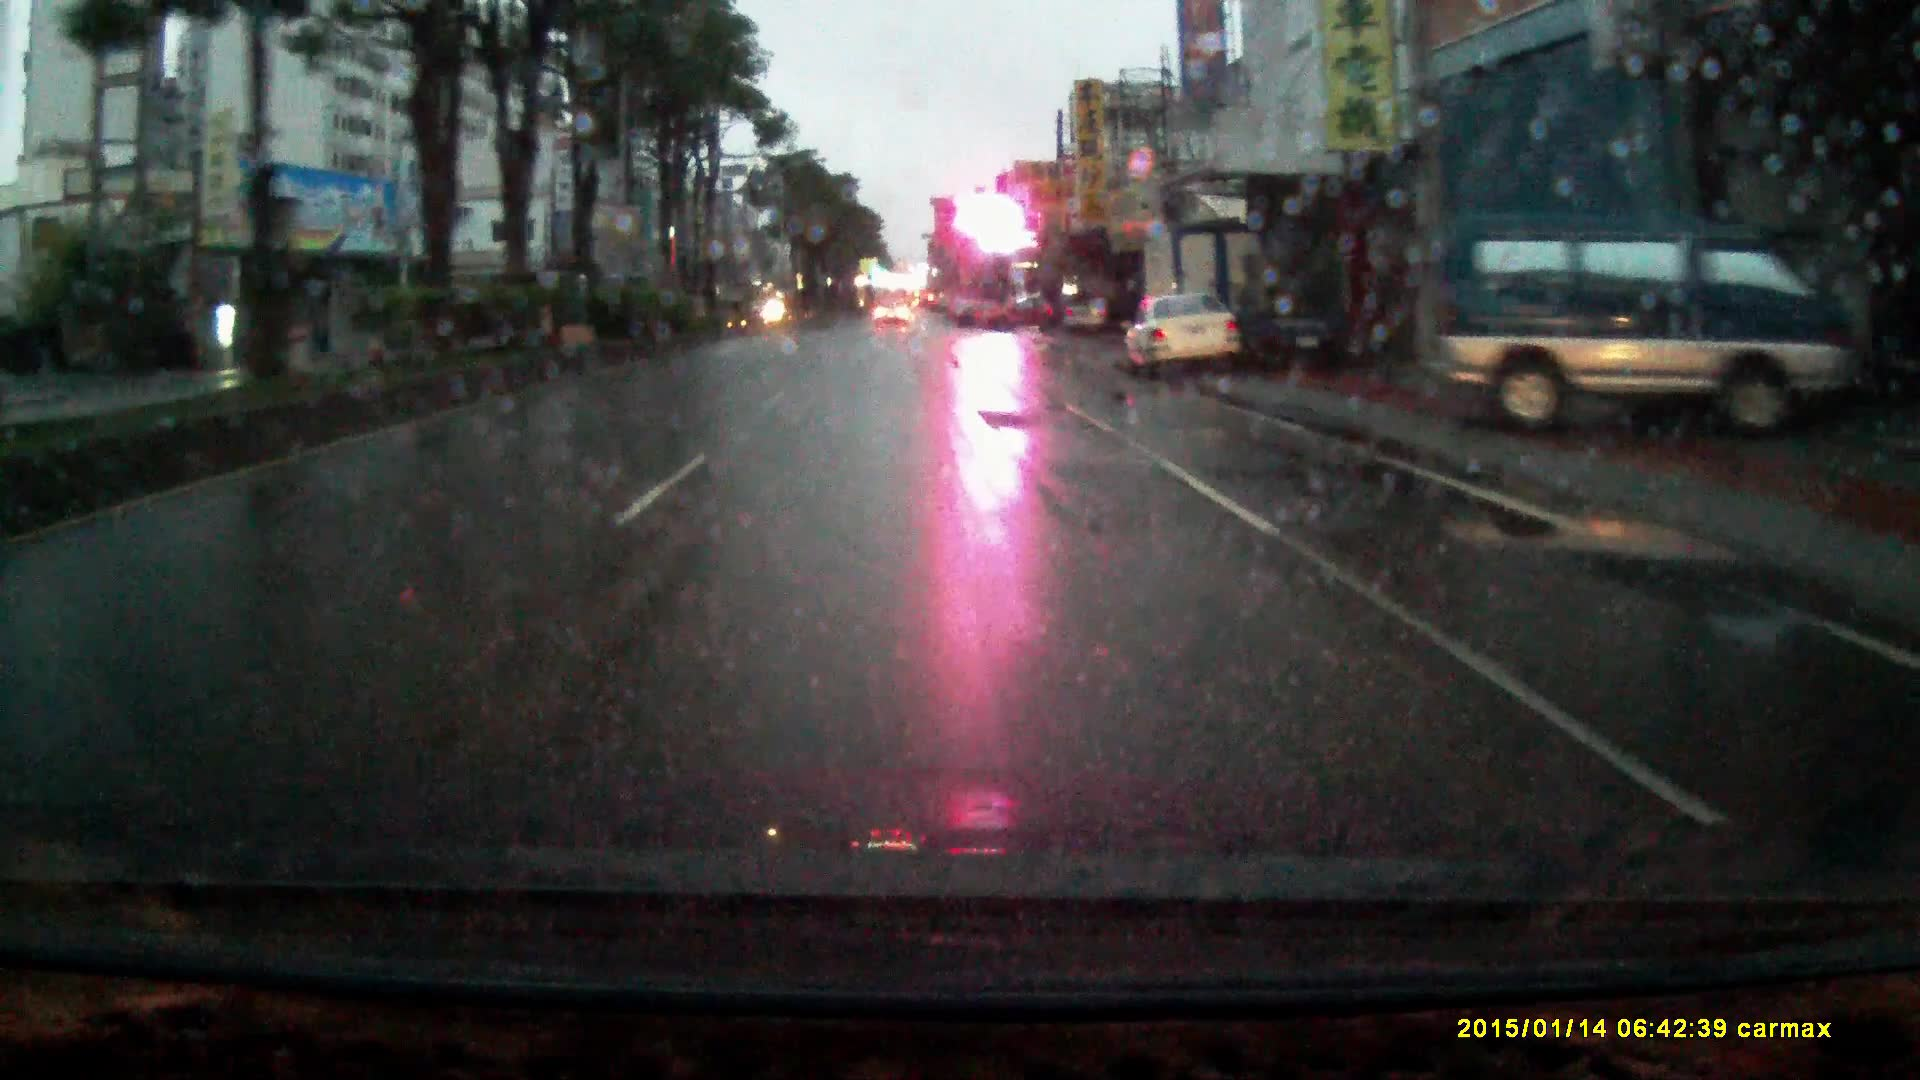vehicle: (1443, 207, 1826, 442), (1131, 222, 1280, 378), (1122, 287, 1251, 378), (978, 289, 1055, 330), (1054, 291, 1109, 335), (876, 298, 910, 328)
